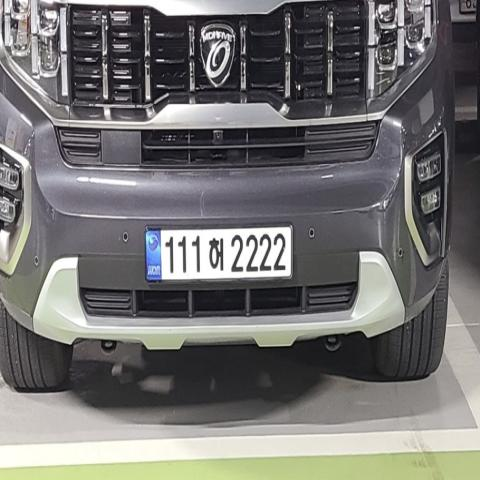LP: (143, 212, 297, 292)
